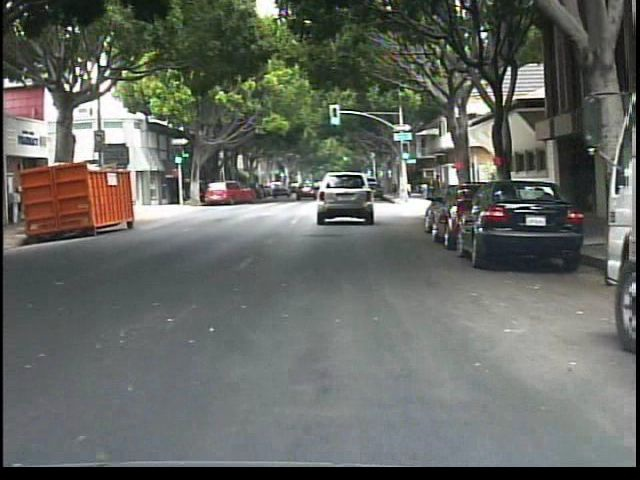person: (420, 172, 432, 201)
